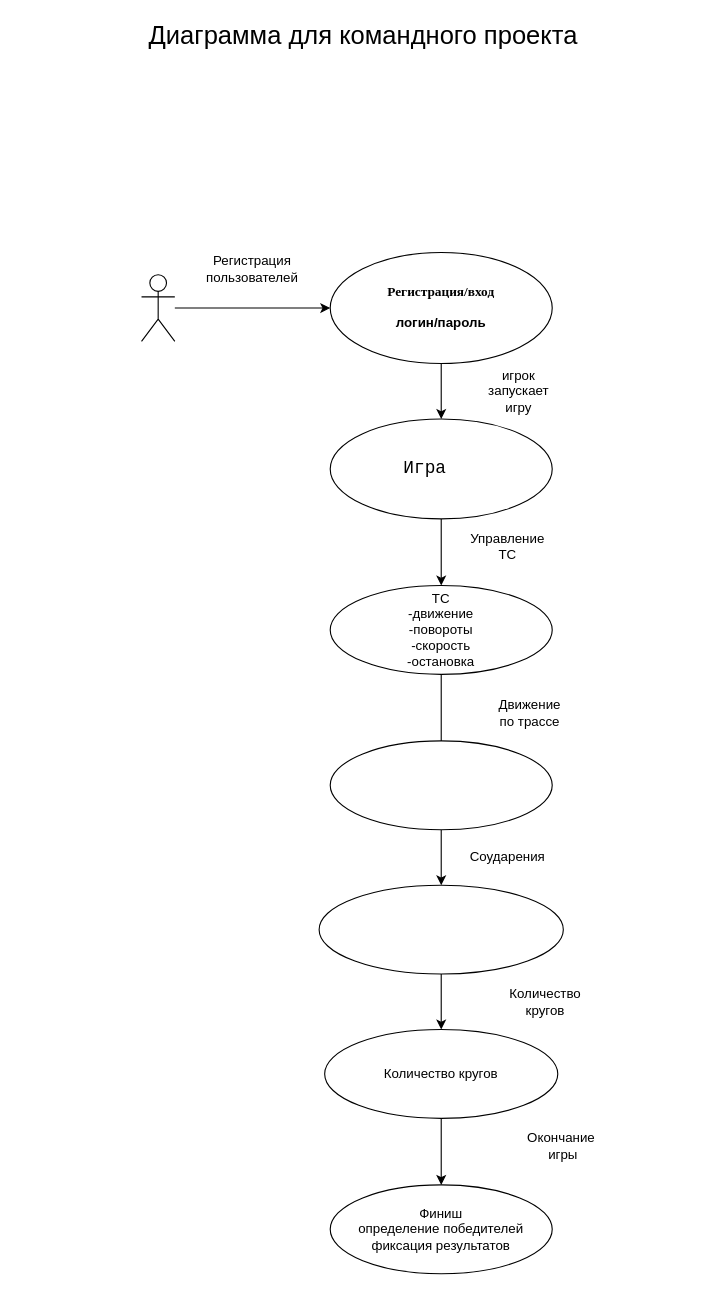
Image size: 726x1293. Some labels were removed from this diagram. Each missing label, with the box of its shape:
Actor: (140, 274, 175, 341)
Соударения - Изменения траектории - Замедление при соприкосновении: (318, 884, 563, 974)
Трасса Круговая трасса Полоса старта Полоса финиша: (329, 740, 552, 830)
